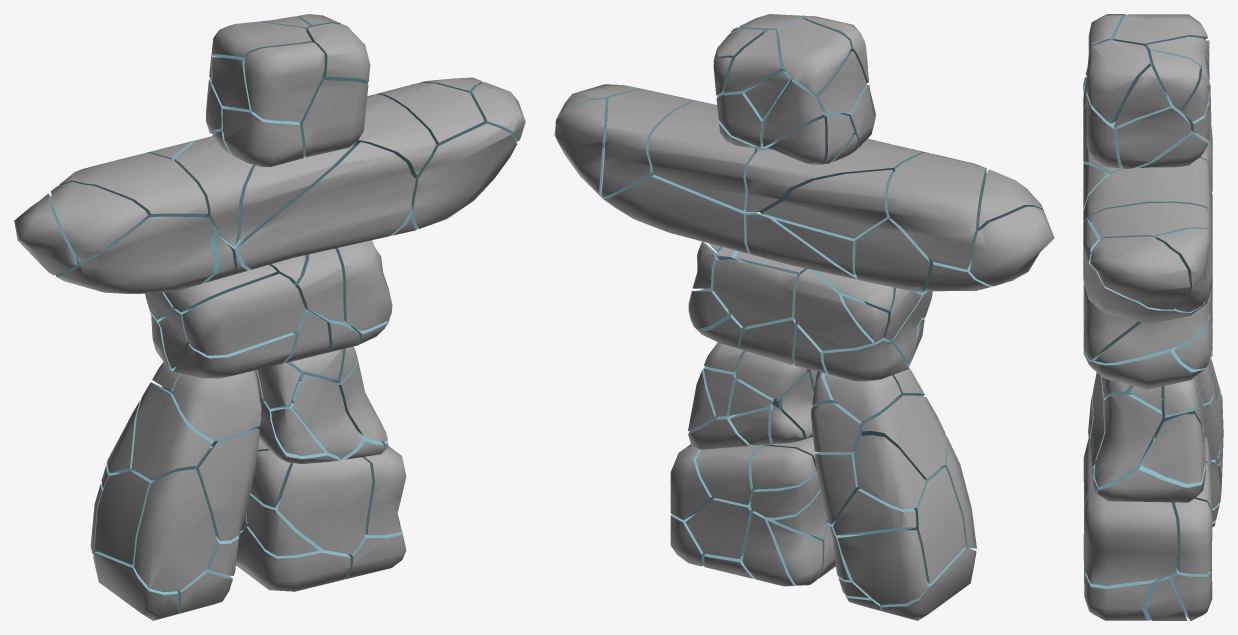
The model's file is Inukshuk_fractured.fbx.
The picture shows the model from 3 angles, left to right: view 1: azimuth 30°, elevation 25°; view 2: azimuth 150°, elevation 25°; view 3: azimuth 270°, elevation 25°; orthographic projection. The views are drawn at different scales.
Parts seen in each view (by area): view 1: arms_shard_34, arms_shard_33, leg_shard_22, foot_shard_20, waist_shard_25, arms_shard_23, arms_shard_25, head_shard_17, leg_shard_12, leg_shard_18, arms_shard_31, leg_shard_21 (+35 smaller); view 2: arms_shard_25, arms_shard_38, arms_shard_24, arms_shard_39, arms_shard_27, arms_shard_36, leg_shard_20, arms_shard_29, waist_shard_30, leg_shard_12, waist_shard_28, arms_shard_32 (+55 smaller); view 3: foot_shard_14, arms_shard_37, arms_shard_38, thigh_shard_16, head_shard_1, arms_shard_27, thigh_shard_25, head_shard_16, waist_shard_19, waist_shard_1, thigh_shard_12, arms_shard_23 (+31 smaller).
Boxes of the visible parts, x1,y1,x2,y2 form: arms_shard_34: (238,142,415,269); arms_shard_33: (56,216,215,293); leg_shard_22: (134,469,217,592); foot_shard_20: (277,457,372,554); waist_shard_25: (182,273,305,355); arms_shard_23: (411,123,516,228); arms_shard_25: (51,152,207,219); head_shard_17: (244,42,324,122); leg_shard_12: (131,382,214,480); leg_shard_18: (196,428,259,540); arms_shard_31: (51,182,147,262); leg_shard_21: (172,370,261,441); arms_shard_25: (887,153,986,269); arms_shard_38: (648,100,754,210); arms_shard_24: (606,173,758,253); arms_shard_39: (763,169,893,238); arms_shard_27: (601,89,697,197); arms_shard_36: (745,140,929,211); leg_shard_20: (837,530,927,604); arms_shard_29: (970,206,1054,286); waist_shard_30: (713,259,799,326); leg_shard_12: (861,395,946,479); waist_shard_28: (794,269,873,350); arms_shard_32: (855,218,929,290); foot_shard_14: (1084,489,1177,585); arms_shard_37: (1090,236,1190,309); arms_shard_38: (1083,157,1212,221); thigh_shard_16: (1094,394,1162,486); head_shard_1: (1086,40,1153,123); arms_shard_27: (1089,202,1211,307); thigh_shard_25: (1142,414,1204,483); head_shard_16: (1116,97,1190,168); waist_shard_19: (1095,290,1210,363); waist_shard_1: (1083,327,1212,389); thigh_shard_12: (1097,438,1206,502); arms_shard_23: (1083,219,1197,324).
Size of the model in its own units: 2 by 2.09 by 0.4842.
